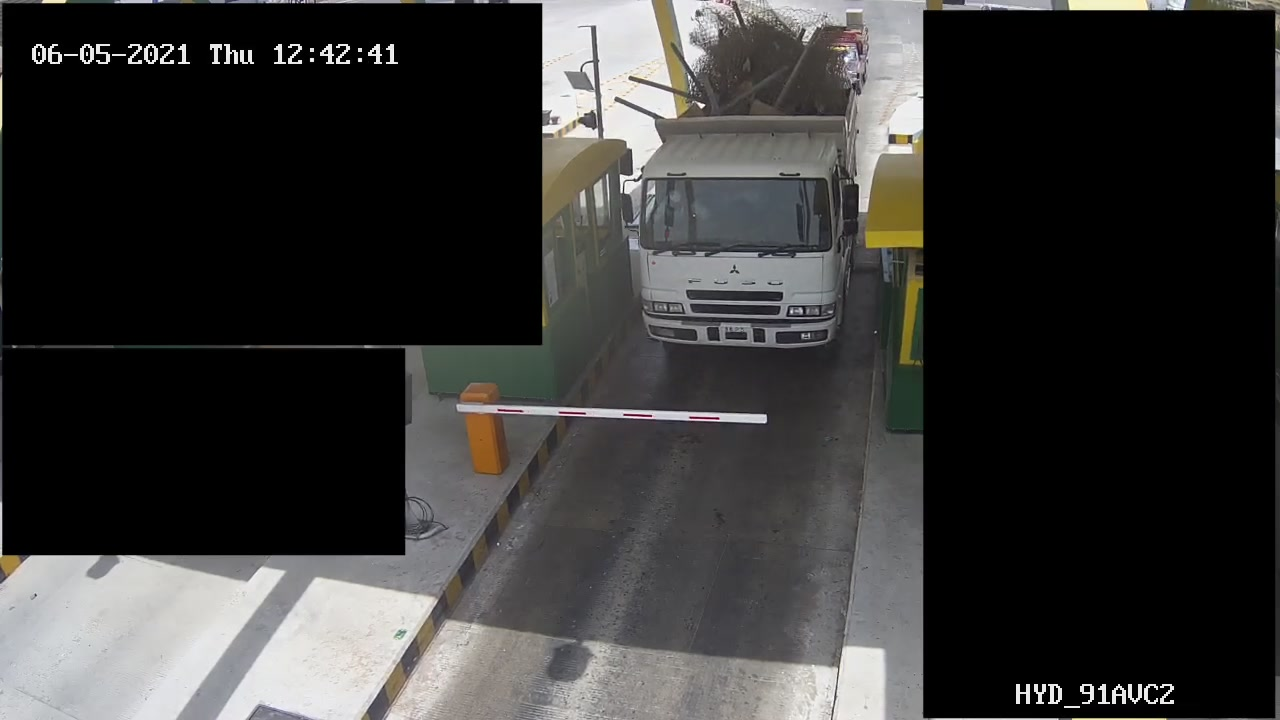F5: (622, 2, 872, 356)
